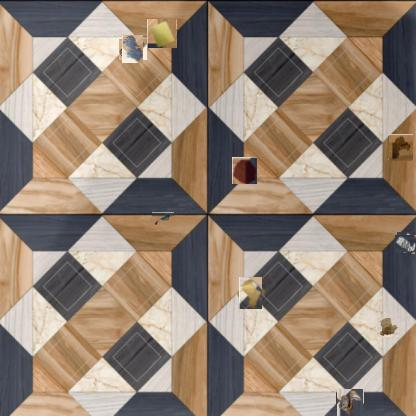dirty: (147, 19, 177, 48), (336, 388, 364, 416), (237, 280, 265, 307), (389, 135, 414, 161), (378, 317, 399, 337), (396, 233, 416, 253), (152, 212, 174, 225)
liquid: (232, 157, 257, 184), (121, 37, 145, 62)
